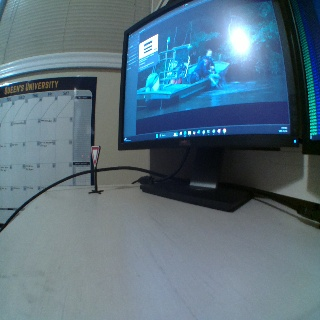sign_yield: (89, 145, 103, 167)
